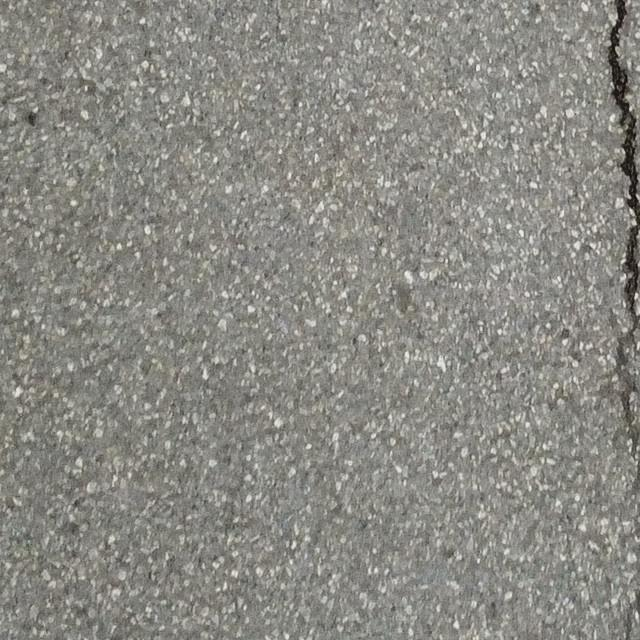LongitudinalCrack: (606, 1, 640, 432)
